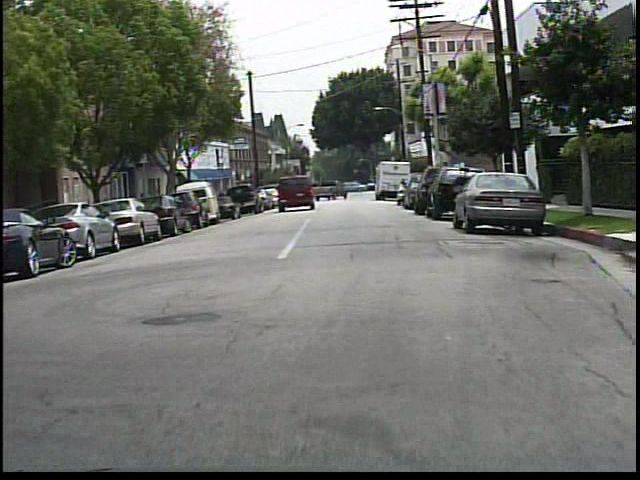car: (452, 171, 549, 231), (1, 211, 67, 272), (59, 203, 114, 256), (114, 200, 157, 243), (278, 172, 316, 214), (428, 164, 457, 218), (156, 198, 189, 233), (313, 175, 350, 200)
strada: (1, 267, 625, 462)
